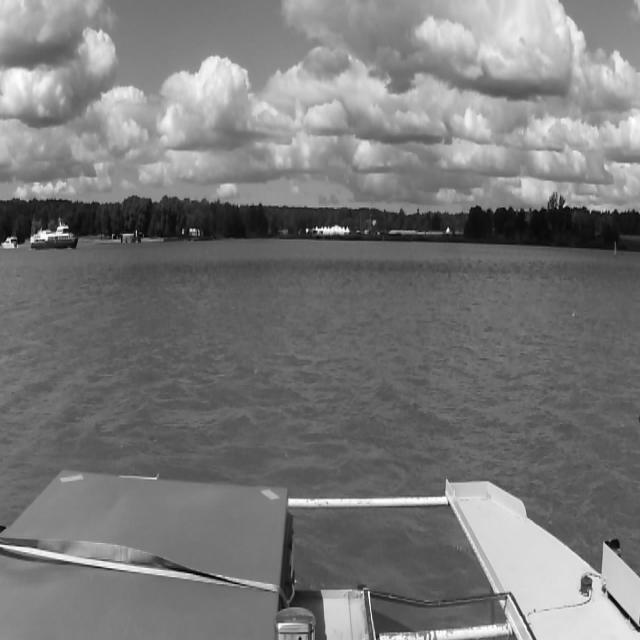ship: (30, 215, 78, 249), (0, 233, 20, 252)
